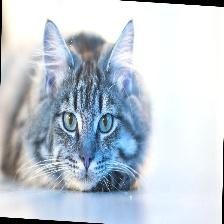kedo: (36, 20, 147, 192)
